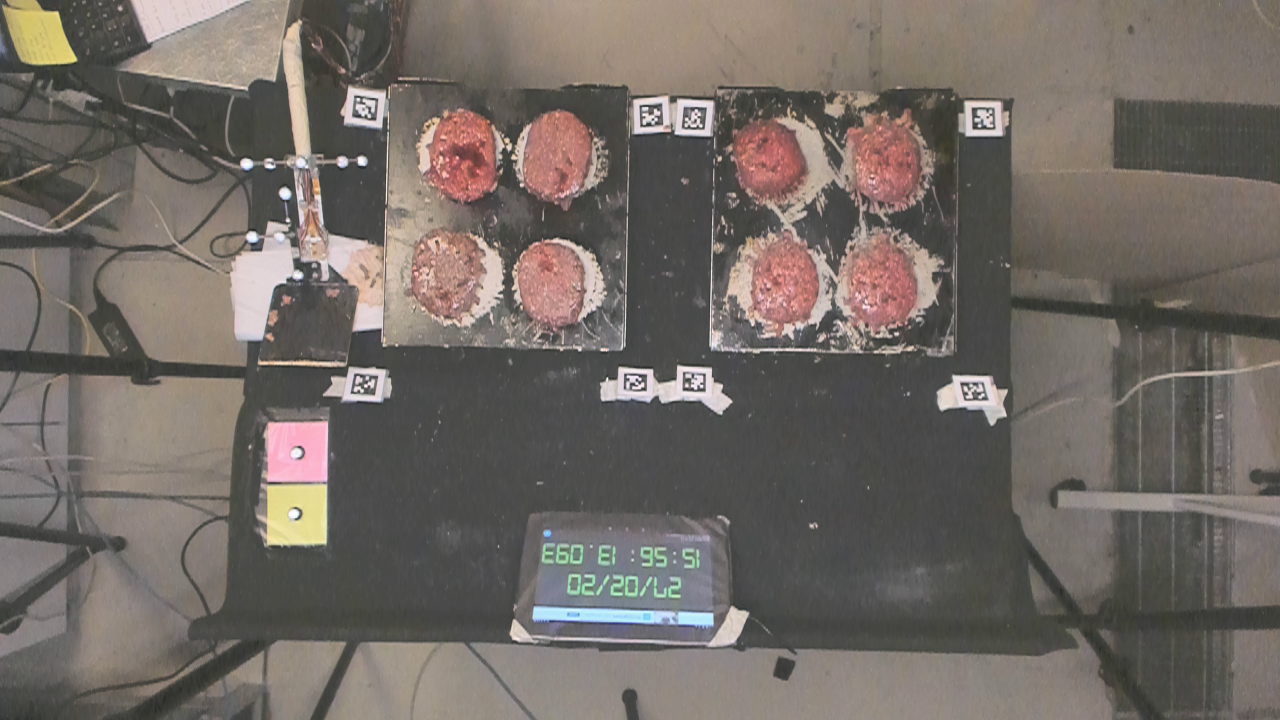hamburger: (847, 116, 922, 206), (410, 228, 485, 315), (846, 237, 917, 321), (433, 108, 498, 198), (733, 120, 802, 203), (518, 238, 581, 324), (754, 236, 815, 323), (530, 115, 591, 197)
marker: (267, 420, 327, 483)
